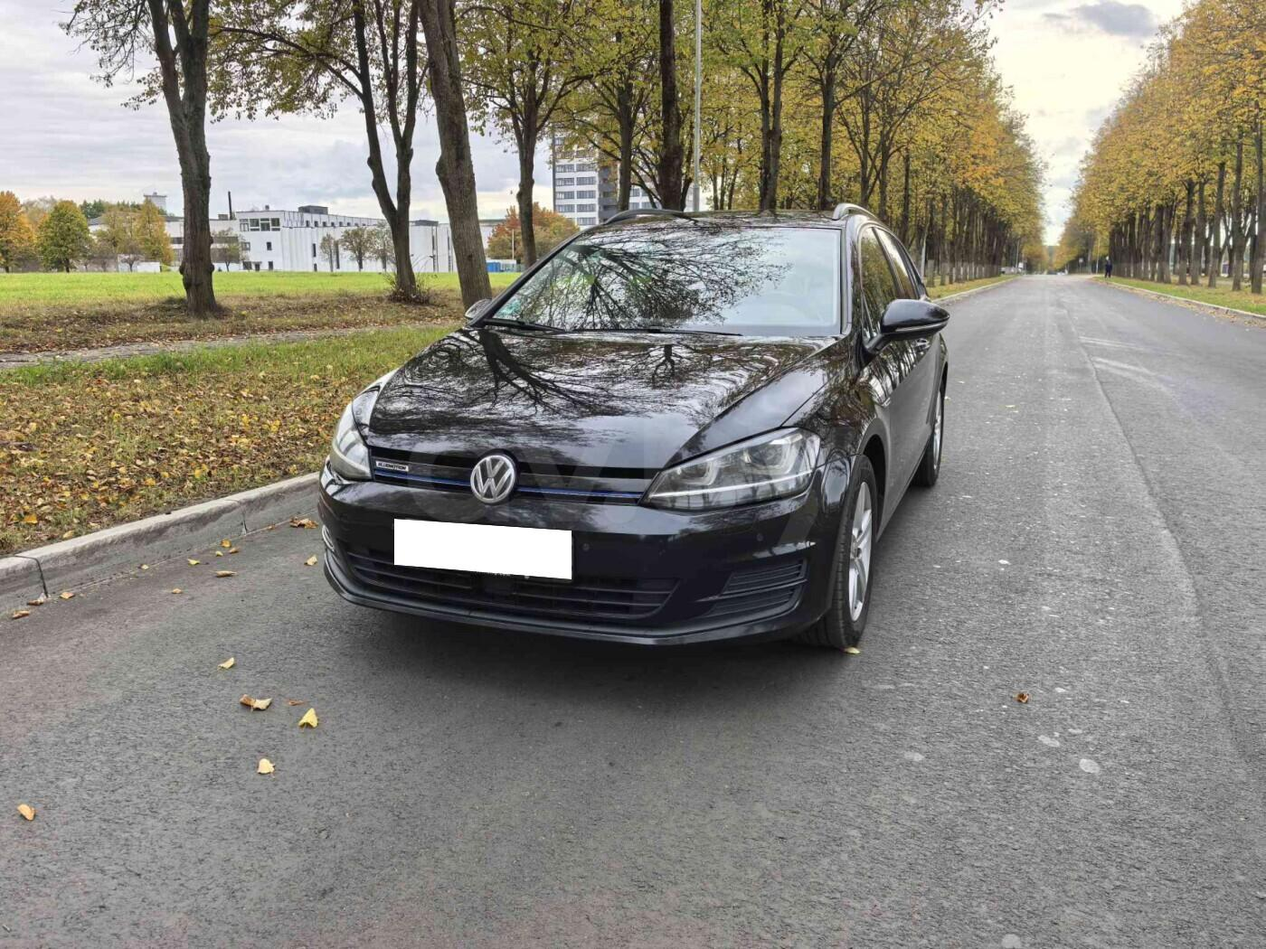Golf_2012-2017: (315, 208, 959, 663)
